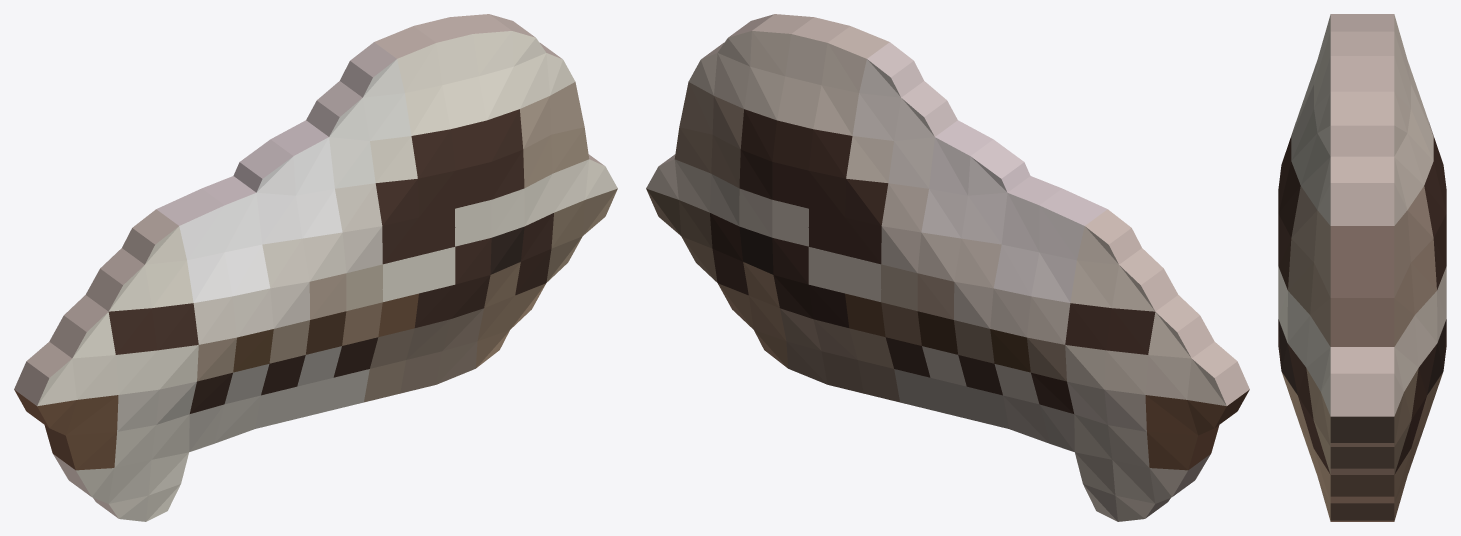
File: animal_skull.glb
3 views of the same model, side by side, from view 1: azimuth 30°, elevation 25°; view 2: azimuth 150°, elevation 25°; view 3: azimuth 270°, elevation 25° (orthographic). The views are drawn at different scales.
Visible parts, largest first — view 1: animal_skull; view 2: animal_skull; view 3: animal_skull.
Boxes of the visible parts, x1,y1,x2,y2 form: animal_skull: (14,14,617,521); animal_skull: (646,14,1249,521); animal_skull: (1278,14,1446,521).
Bounding box in the file's own units: 1 × 0.6716 × 0.1813.
1 material, 1 textured.
